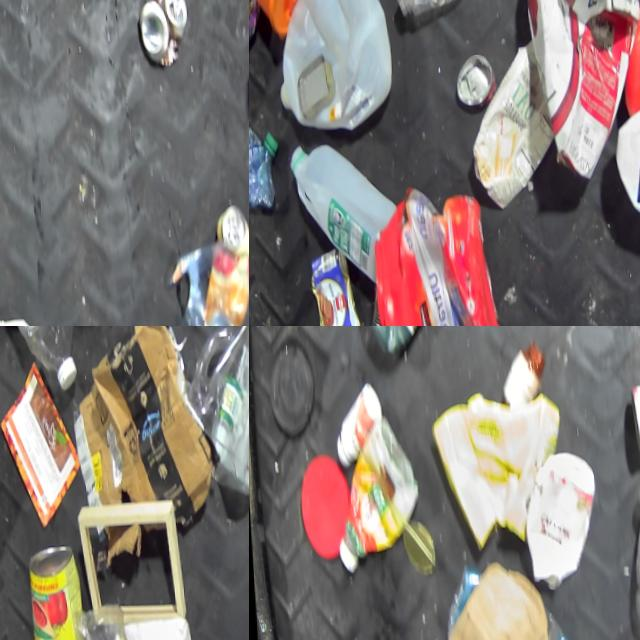can: (183, 220, 249, 326), (0, 326, 75, 406), (21, 543, 78, 640), (302, 248, 356, 326), (131, 0, 188, 72), (445, 40, 493, 123), (617, 375, 640, 470)
milk_jug: (269, 0, 389, 142), (281, 139, 392, 288), (514, 457, 599, 600)
non_white_jug: (424, 350, 560, 559), (326, 417, 417, 581)
plastic_bottle: (386, 0, 499, 41), (249, 109, 280, 229), (620, 479, 640, 640)
